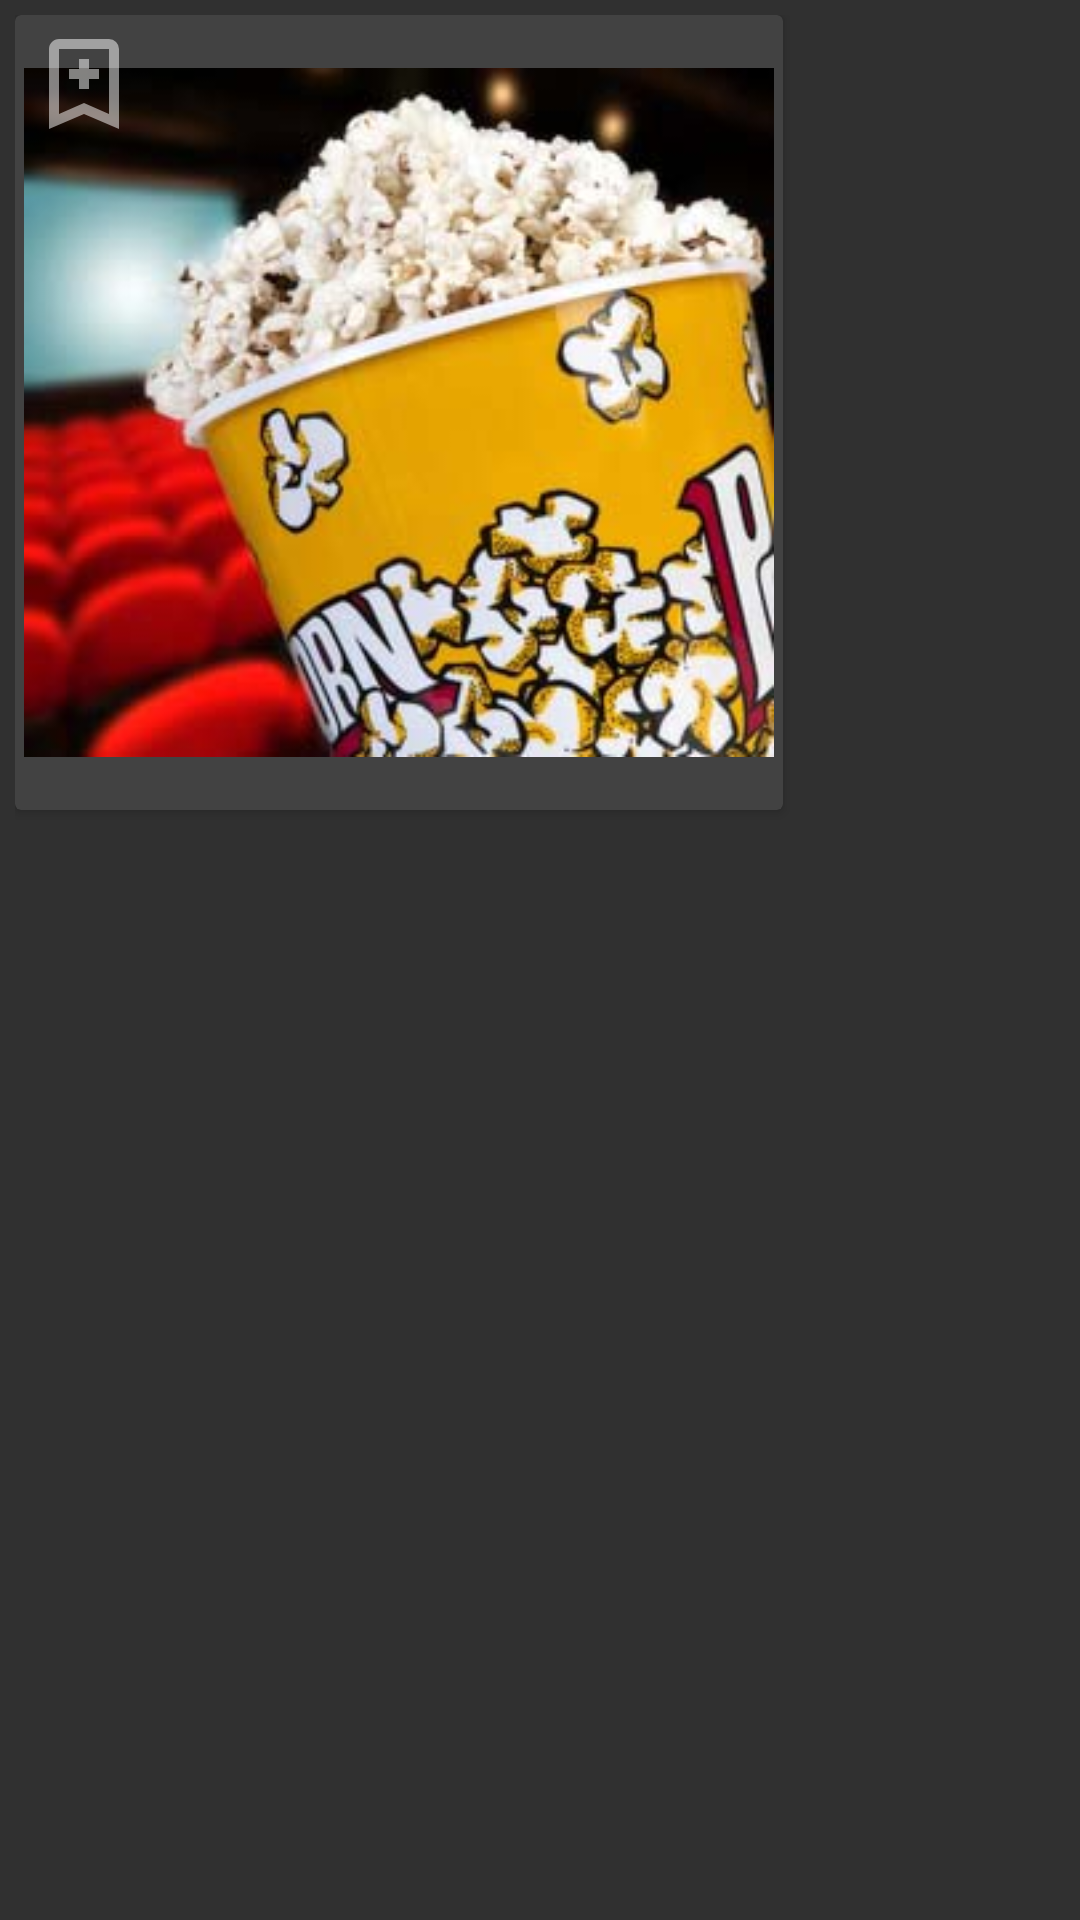

Screen size 1080*1920. Icon name, then its center in pixels as [x,y]:
attach favorite: [84,84]
